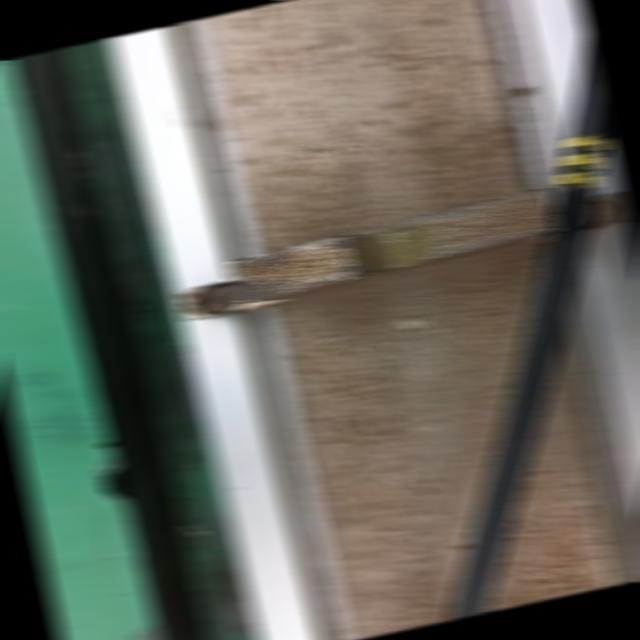yellow: (549, 135, 610, 186)
